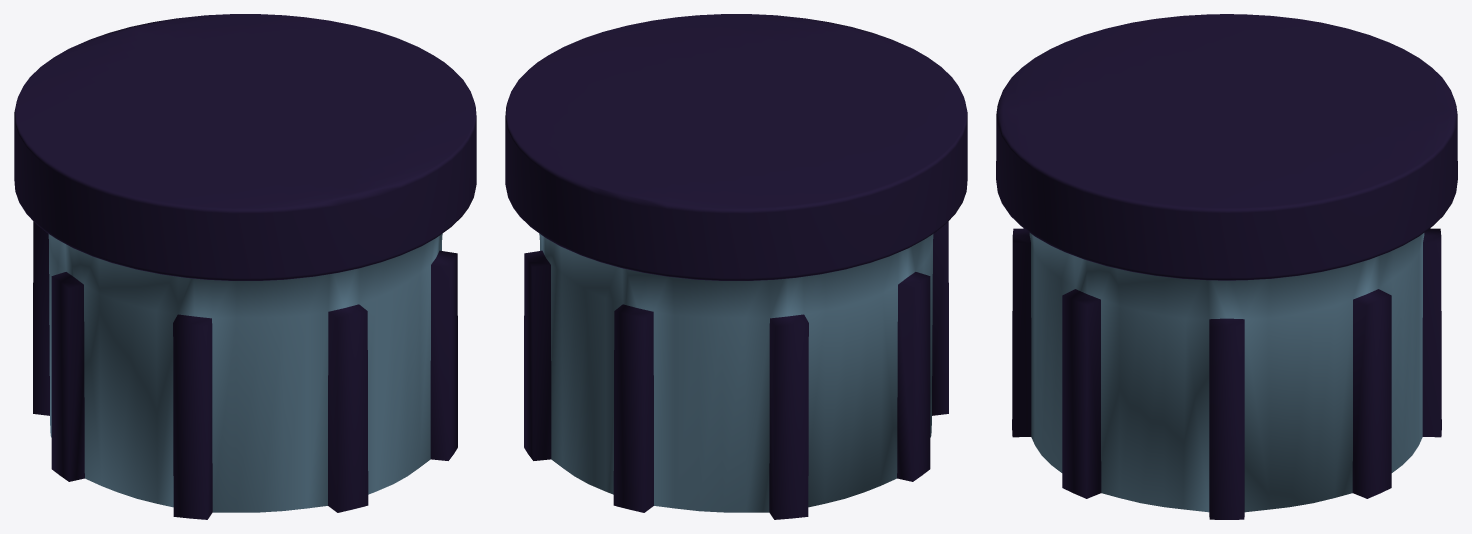
File: Lighthouse_SecondFloor_RAI.fbx
3 renders of one model, left to right at view 1: azimuth 30°, elevation 25°; view 2: azimuth 150°, elevation 25°; view 3: azimuth 270°, elevation 25°, orthographic.
Parts seen in each view (by area): view 1: RetopoGroup2; view 2: RetopoGroup2; view 3: RetopoGroup2.
Boxes of the visible parts, left/top/right/bottom form: RetopoGroup2: left=14, top=14, right=476, bottom=519; RetopoGroup2: left=505, top=14, right=967, bottom=519; RetopoGroup2: left=996, top=14, right=1457, bottom=519.
Size of the model in its own units: 204 by 156 by 204.
